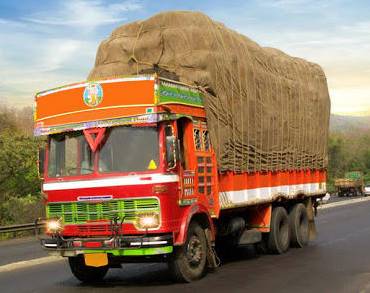truck: (29, 7, 332, 286), (332, 166, 368, 201)
